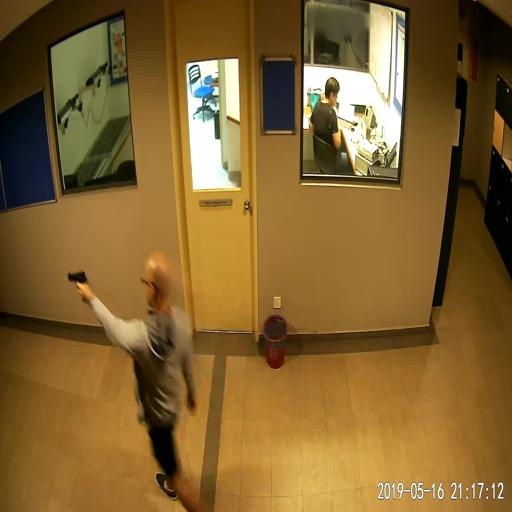pistol: (67, 272, 88, 302)
